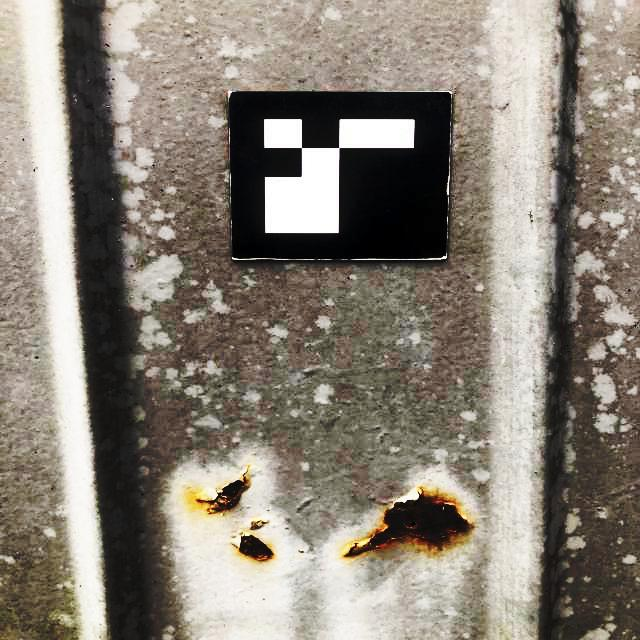Corrosion: (339, 486, 470, 560), (194, 463, 257, 515), (229, 532, 275, 562), (247, 517, 268, 532)
